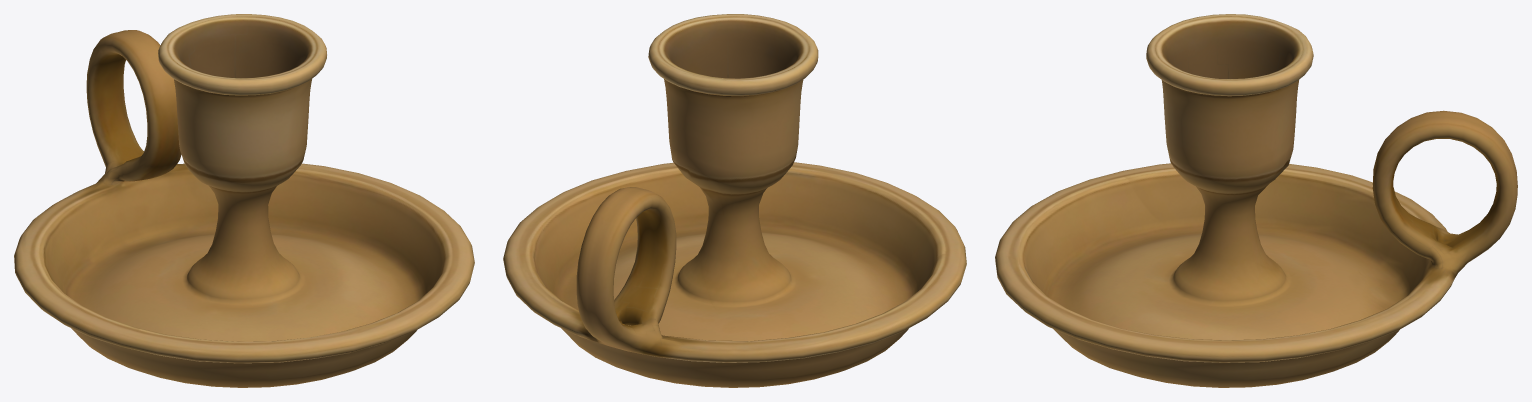
The model's file is candleHolder.fbx.
The picture shows the model from 3 angles, left to right: view 1: azimuth 30°, elevation 25°; view 2: azimuth 150°, elevation 25°; view 3: azimuth 270°, elevation 25°; orthographic projection.
Visible parts, largest first — view 1: candleHolder; view 2: candleHolder; view 3: candleHolder.
Boxes of the visible parts, bbox=[...] form: candleHolder: bbox=[14, 14, 474, 387]; candleHolder: bbox=[503, 14, 966, 387]; candleHolder: bbox=[995, 14, 1517, 387].
Size of the model in its own units: 17.6 by 12.37 by 19.97.
